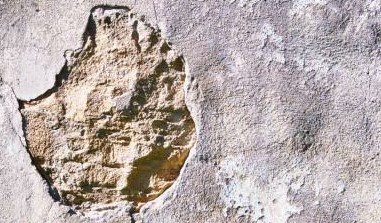Spalling: (13, 3, 196, 214)
